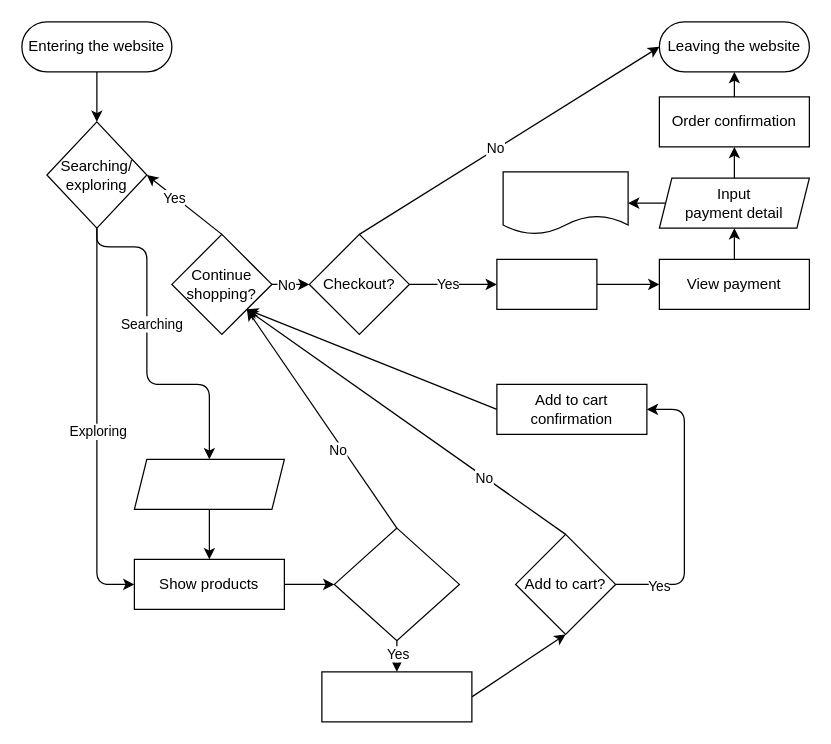
The diagram is 831 pixels wide and 744 high, and some of its shapes have lost their labels. Each missing label, with the centre of its shape:
Email confirmation: (565,202)
Open product webpage: (396,696)
User input: (208,483)
View cart: (546,283)
View specific product?: (396,584)
